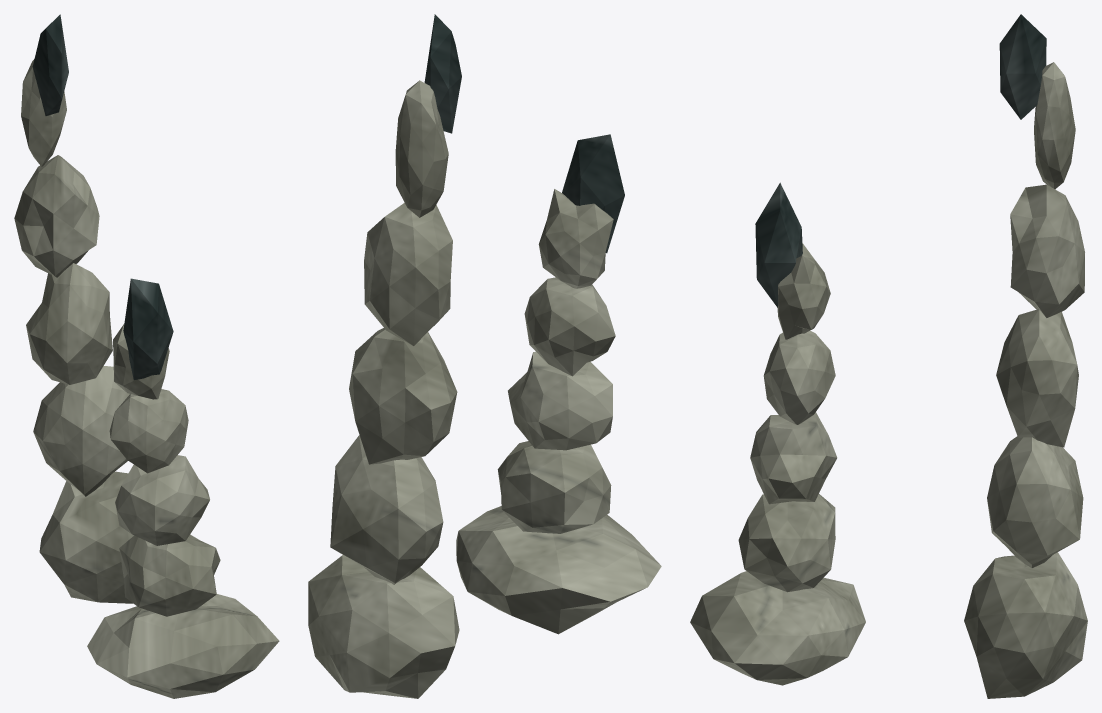
Rendered from 0052_rock_spire_02.glb.
3 views of the same model, side by side, from view 1: azimuth 30°, elevation 25°; view 2: azimuth 150°, elevation 25°; view 3: azimuth 270°, elevation 25° (orthographic). The views are drawn at different scales.
Visible parts, largest first — view 1: stone_light, stone_dark; view 2: stone_light, stone_dark; view 3: stone_light, stone_dark.
Part boxes in pixels (<box>): stone_light: <box>14,59,279,698</box>; stone_dark: <box>32,14,173,380</box>; stone_light: <box>308,80,661,698</box>; stone_dark: <box>424,14,624,253</box>; stone_light: <box>690,62,1087,698</box>; stone_dark: <box>755,14,1046,307</box>.
Bounding box in the file's own units: 0.9217 × 2.94 × 1.63.
2 materials, 2 textured.
